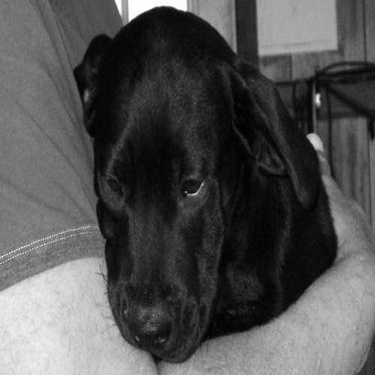dog: (59, 1, 340, 367)
